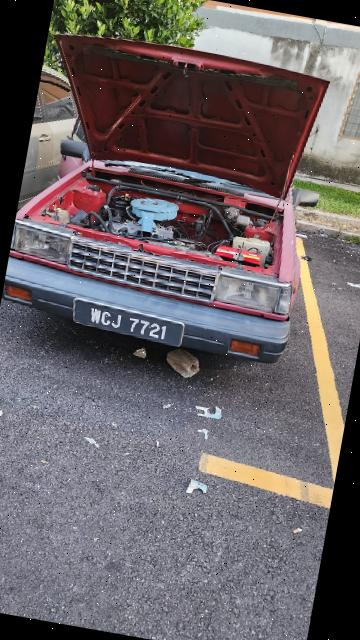License_Plate: (72, 299, 181, 353)
